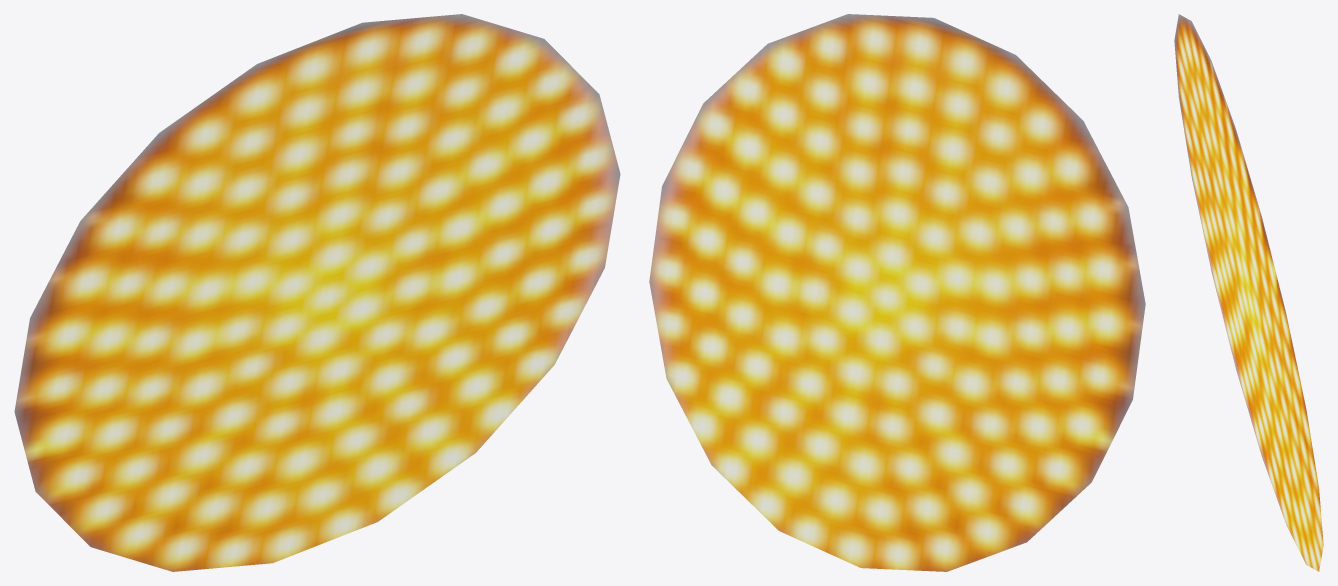
The model's file is L_CarYellow.glb.
3 views of the same model, side by side, from view 1: azimuth 30°, elevation 25°; view 2: azimuth 150°, elevation 25°; view 3: azimuth 270°, elevation 25° (orthographic). The views are drawn at different scales.
Parts seen in each view (by area): view 1: L黄; view 2: L黄; view 3: L黄.
Boxes of the visible parts, x1=… form: L黄: x1=14, y1=14, x2=620, y2=571; L黄: x1=649, y1=14, x2=1145, y2=571; L黄: x1=1174, y1=14, x2=1323, y2=571.
Bounding box in the file's own units: 0.2462 × 0.2415 × 0.0647.
1 material, 1 textured.
